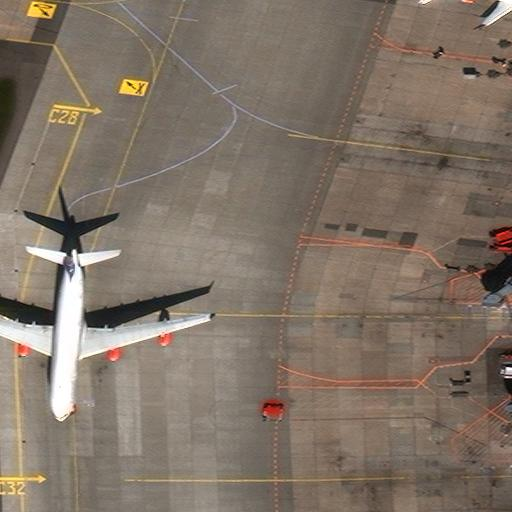Large Civil Transport: (0, 247, 212, 422)
